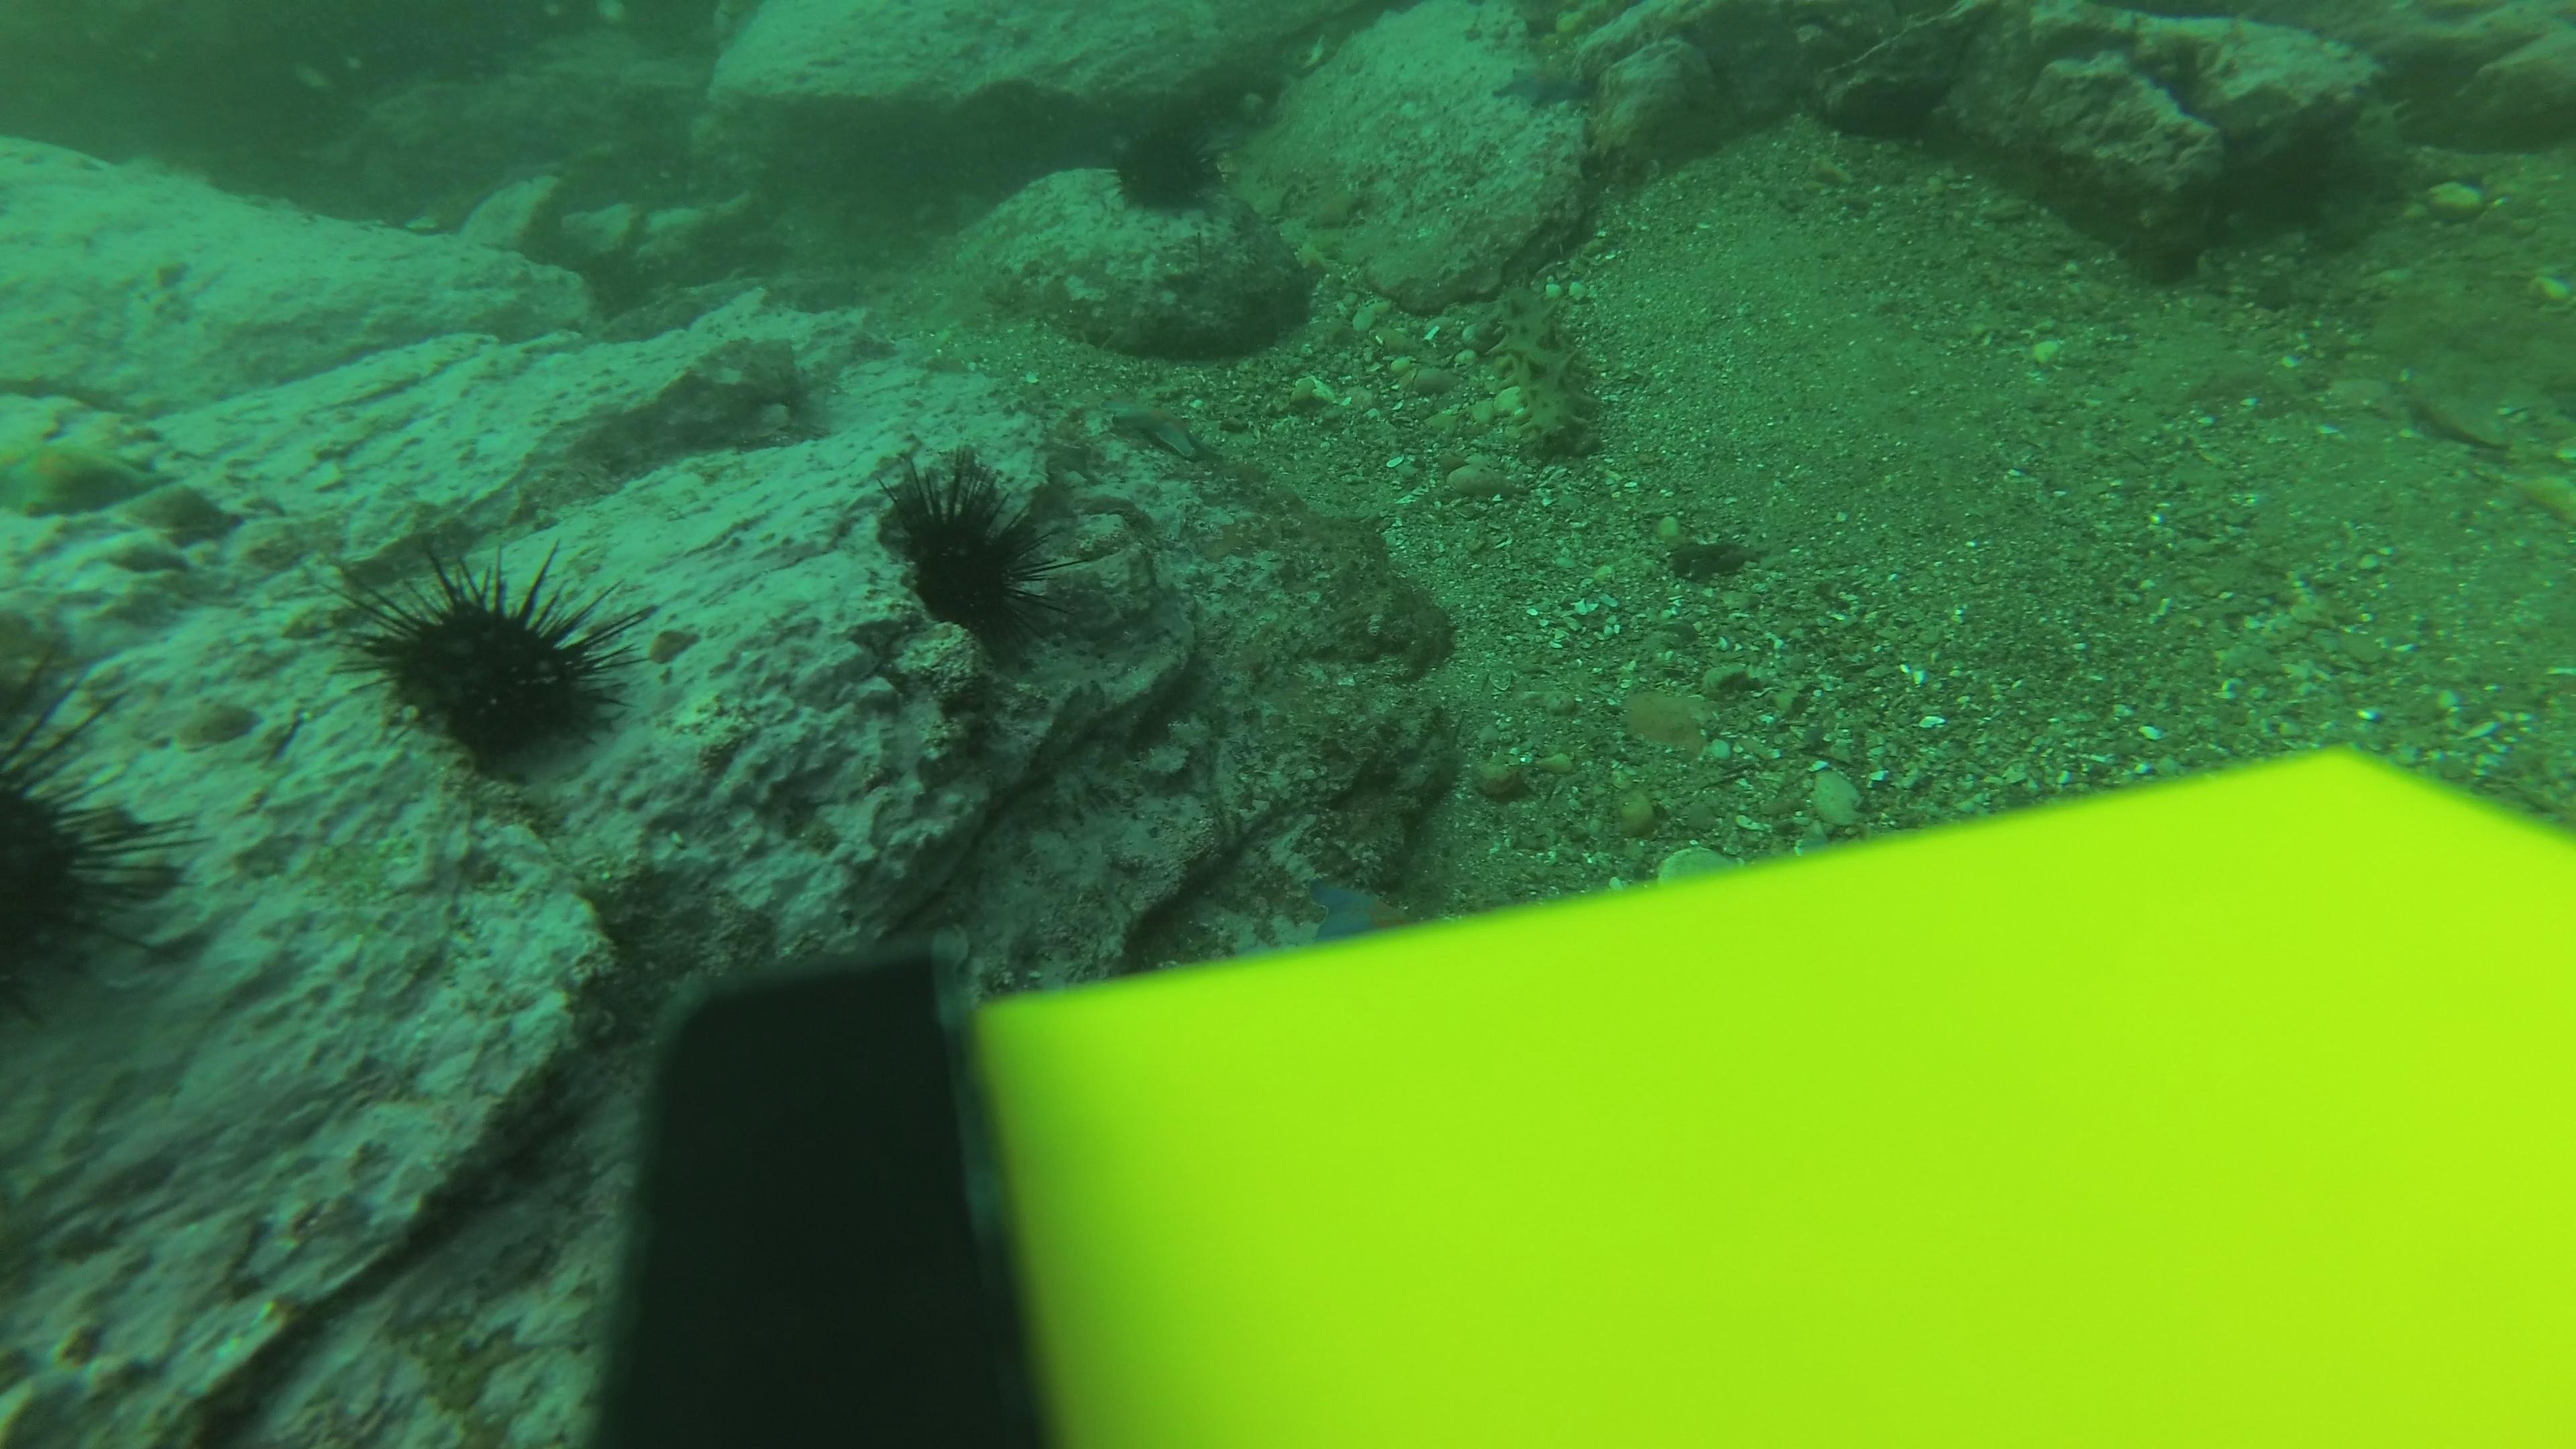urchin: (1, 670, 191, 1018), (354, 541, 649, 742), (875, 439, 1081, 656), (1116, 130, 1226, 211)
